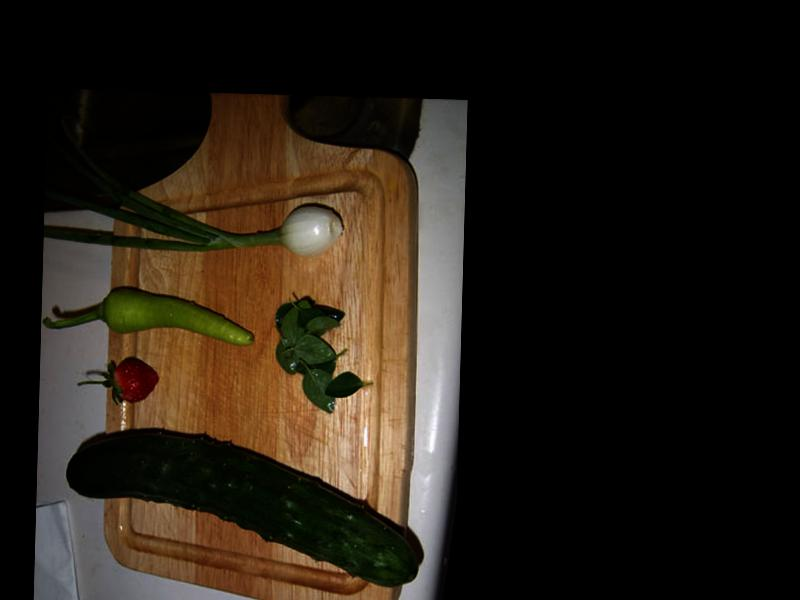Cucumber: (64, 429, 421, 587)
